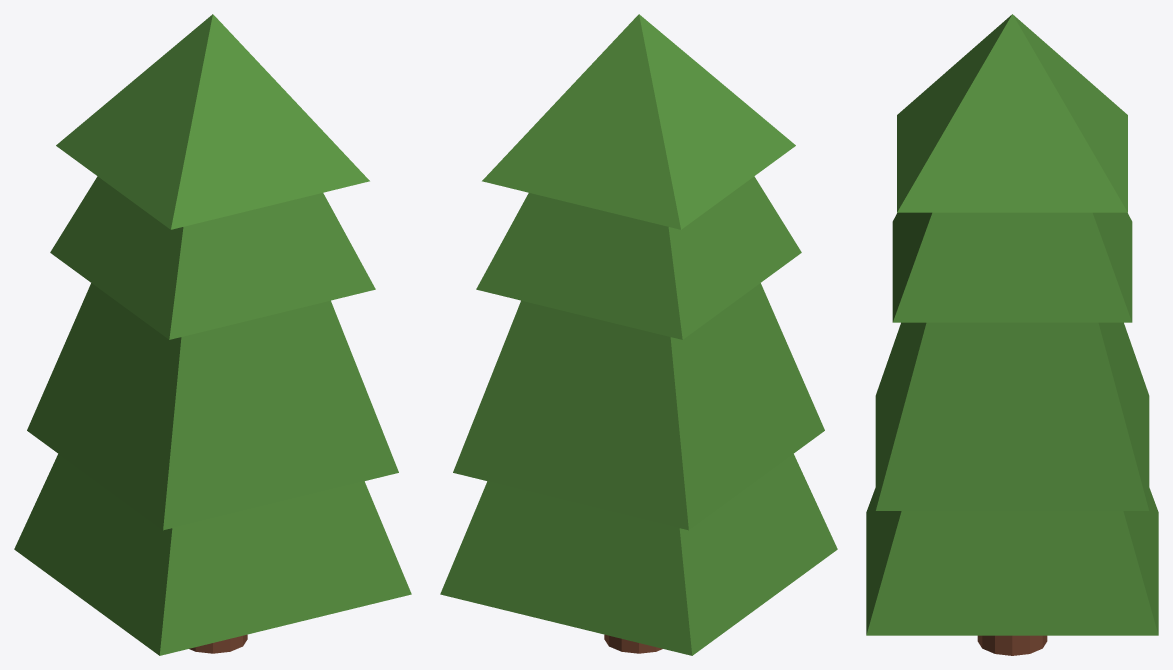
File: Tree_17_summer_mat.fbx
3 views of the same model, side by side, from view 1: azimuth 30°, elevation 25°; view 2: azimuth 150°, elevation 25°; view 3: azimuth 270°, elevation 25° (orthographic).
Parts seen in each view (by area): view 1: Tree_17_summer_mat; view 2: Tree_17_summer_mat; view 3: Tree_17_summer_mat.
Boxes of the visible parts, x1,y1,x2,y2 form: Tree_17_summer_mat: [14, 14, 411, 655]; Tree_17_summer_mat: [440, 14, 837, 655]; Tree_17_summer_mat: [866, 14, 1158, 655].
Size of the model in its own units: 2.62 by 6.21 by 2.62.
